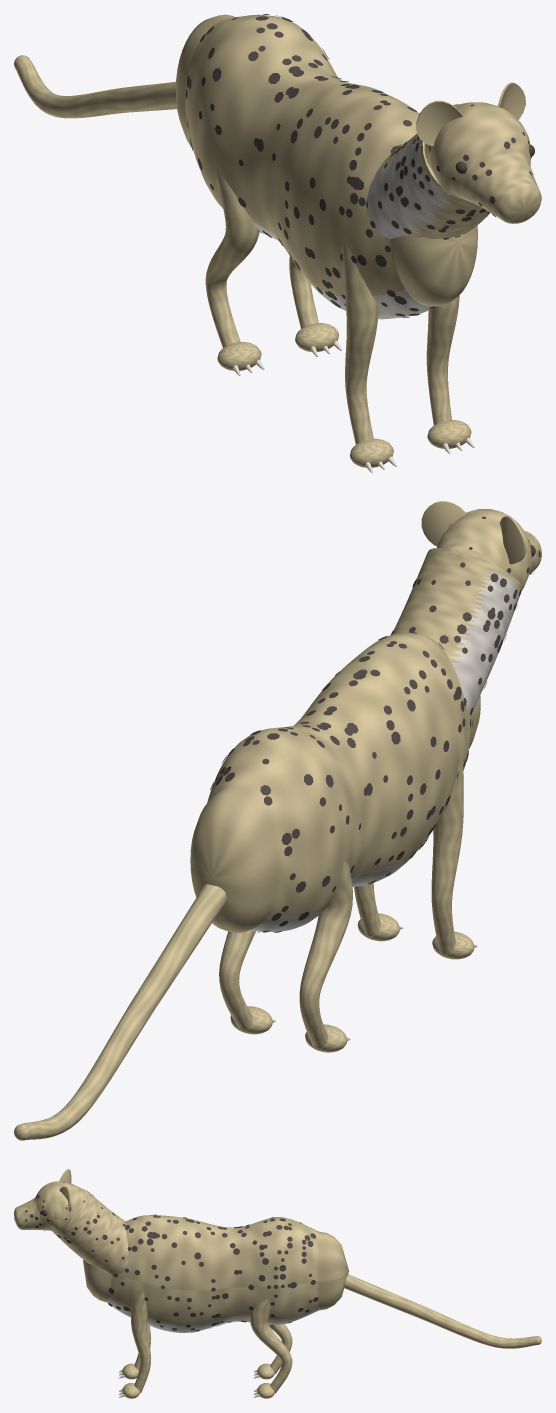
The model's file is other-cheetah.glb.
The picture shows the model from 3 angles, top to bottom: view 1: azimuth 30°, elevation 25°; view 2: azimuth 150°, elevation 25°; view 3: azimuth 270°, elevation 25°; orthographic projection. The views are drawn at different scales.
Visible parts, largest first — view 1: cheetah; view 2: cheetah; view 3: cheetah.
Boxes of the visible parts, <box> form: cheetah: <box>14,14,541,472</box>; cheetah: <box>14,501,541,1140</box>; cheetah: <box>14,1169,541,1398</box>.
Bounding box in the file's own units: 0.3398 × 1.06 × 2.44.
Materials: 6 (3 with a texture image).
